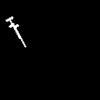double_crochet: (6, 17, 25, 46)
